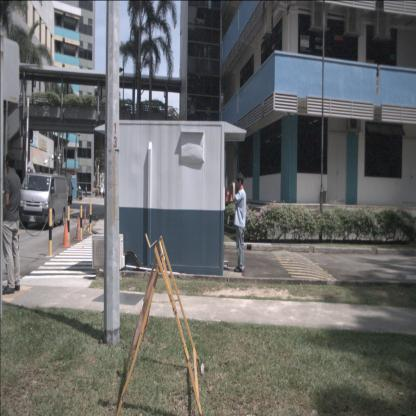cone: (62, 217, 71, 248), (74, 216, 83, 240)
